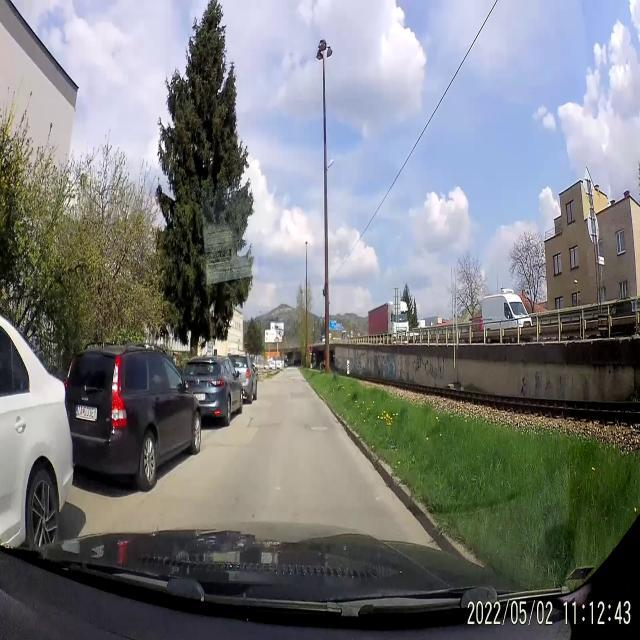Manhole: (309, 424, 329, 434)
